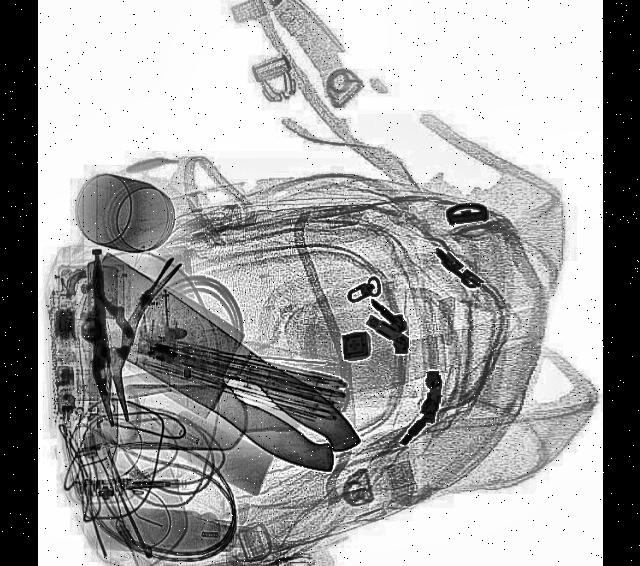Knife: (66, 244, 368, 507), (68, 244, 358, 488)
